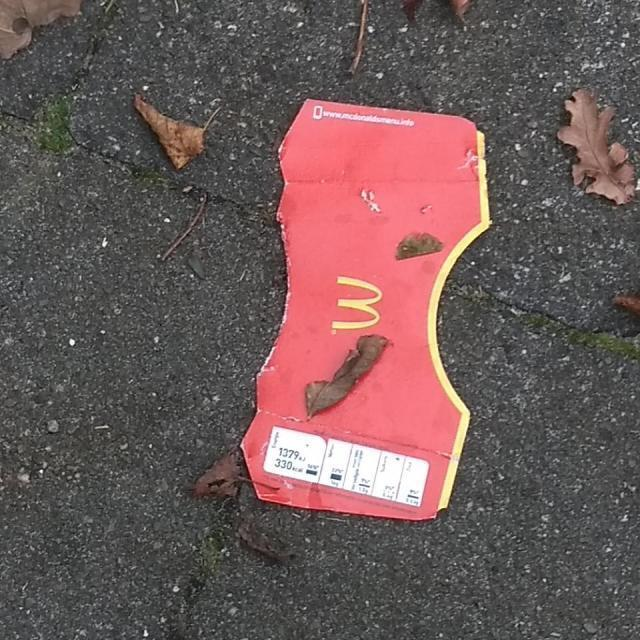Paper: (234, 93, 494, 523)
